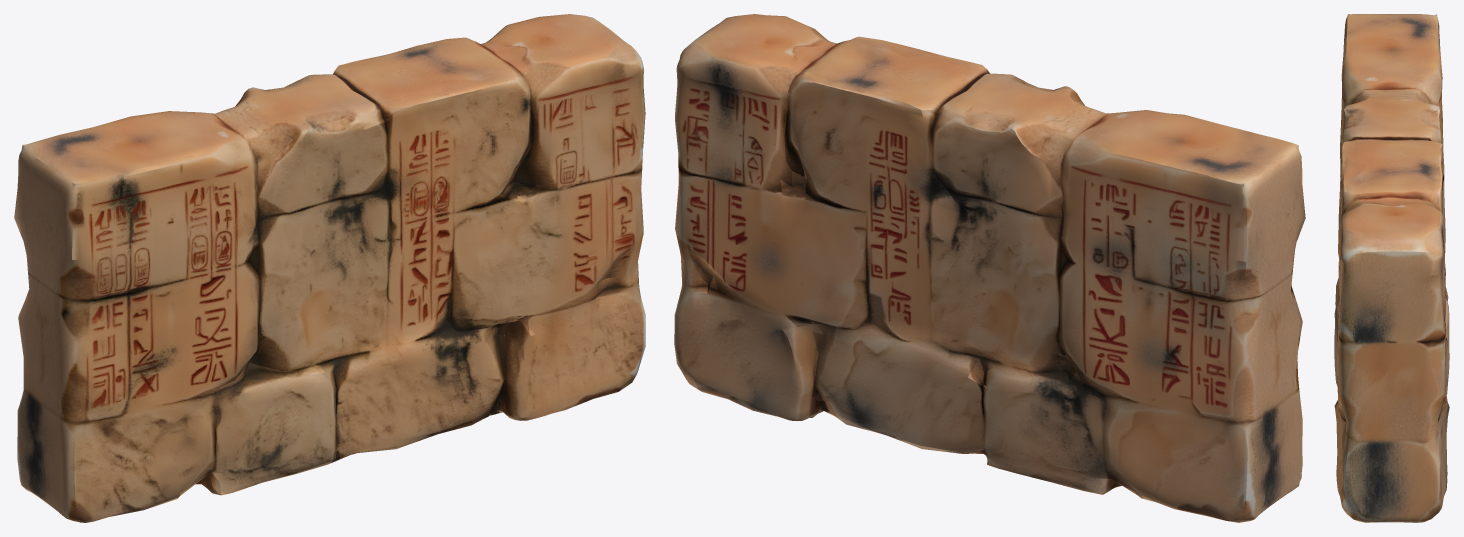
The model's file is Meshy_AI_Ancient_Hieroglyphic__0102170310_texture.fbx.
The picture shows the model from 3 angles, left to right: view 1: azimuth 30°, elevation 25°; view 2: azimuth 150°, elevation 25°; view 3: azimuth 270°, elevation 25°; orthographic projection. The views are drawn at different scales.
Parts seen in each view (by area): view 1: Mesh0; view 2: Mesh0; view 3: Mesh0.
Part boxes in pixels (box(x1,y1,x2,y2)): Mesh0: box(14, 14, 645, 522); Mesh0: box(674, 14, 1305, 522); Mesh0: box(1334, 14, 1449, 522).
Size of the model in its own units: 527 by 300 by 110.
Materials: 1 (1 with a texture image).
